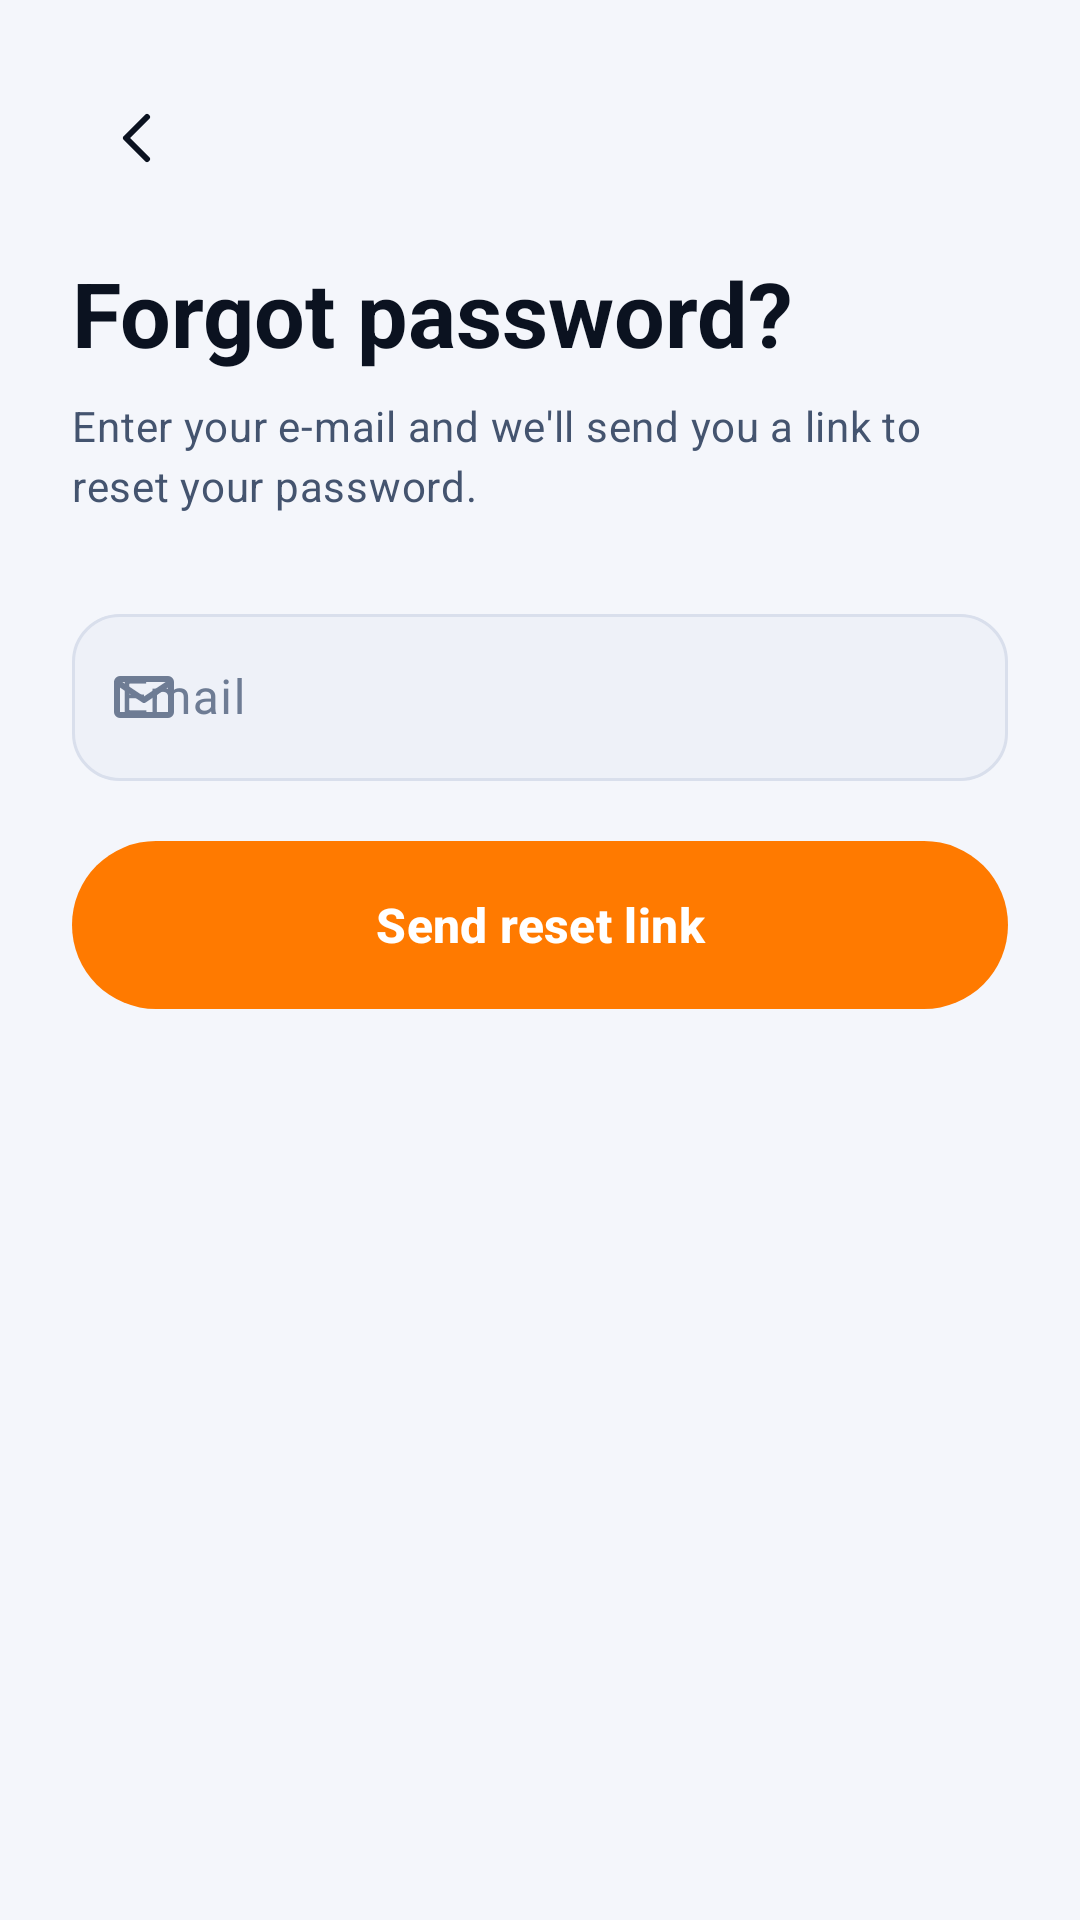

Named icons in this screenshot (1080px x 1920px) and their centers, (x,y):
Back: (136,138)
